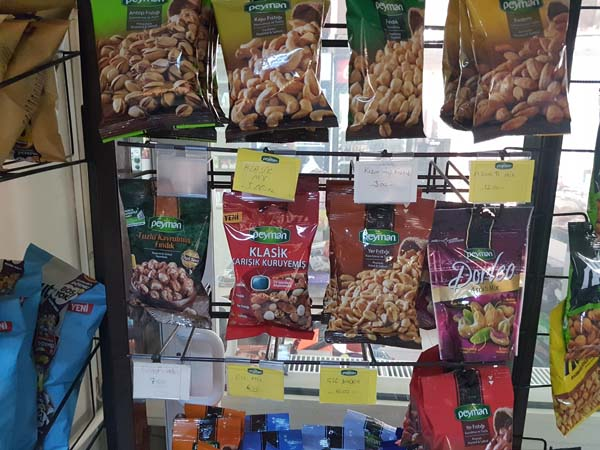antepfistigi: (89, 1, 220, 137)
peysankavrulmusfindik: (108, 173, 216, 335)
